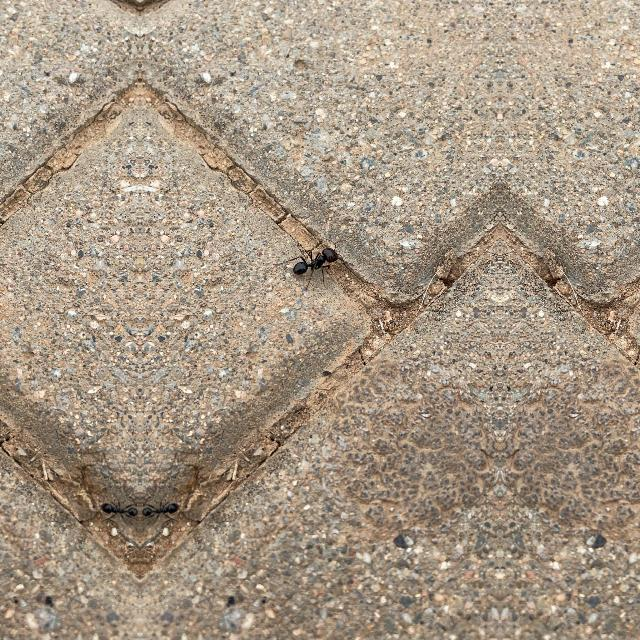Messor: (283, 240, 341, 286)
